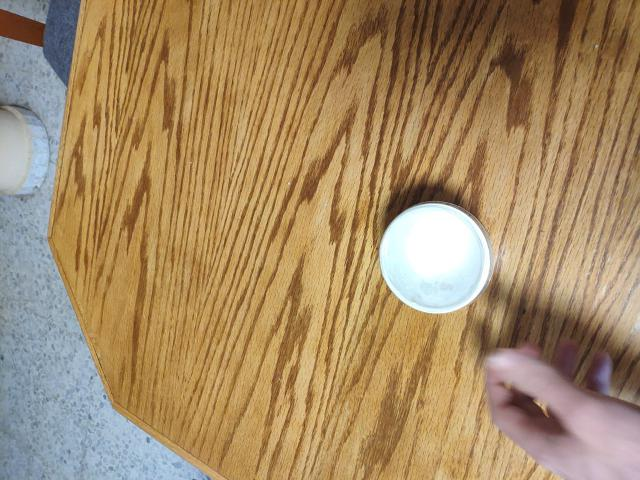cotage: (378, 207, 506, 322)
